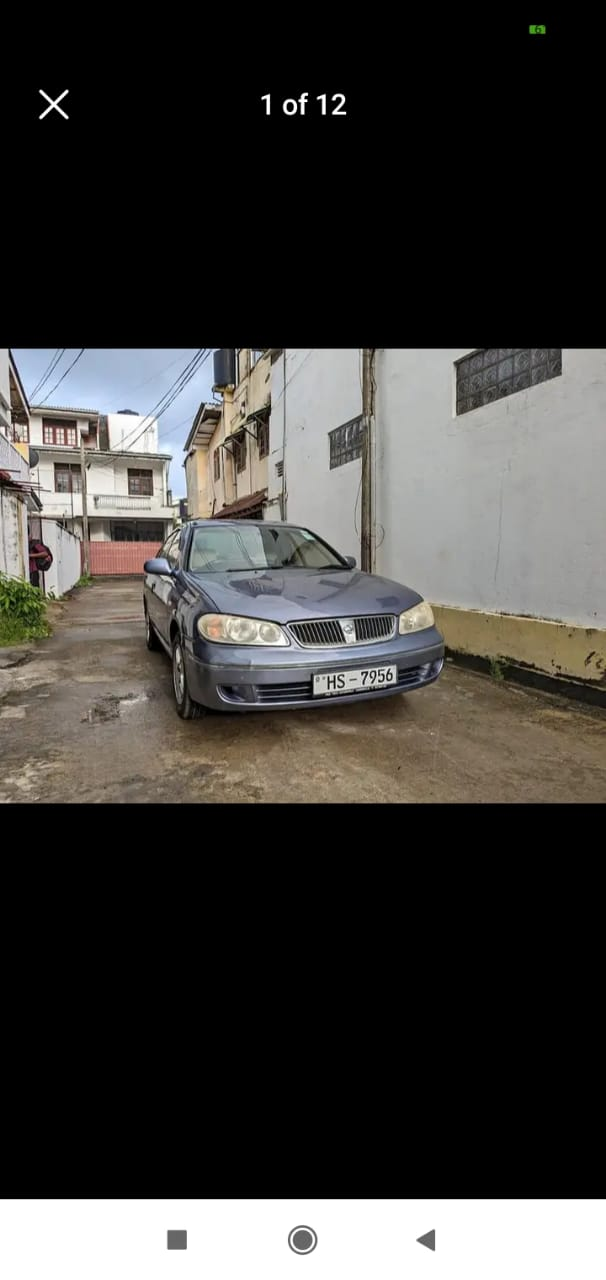number_plate: (310, 666, 404, 693)
